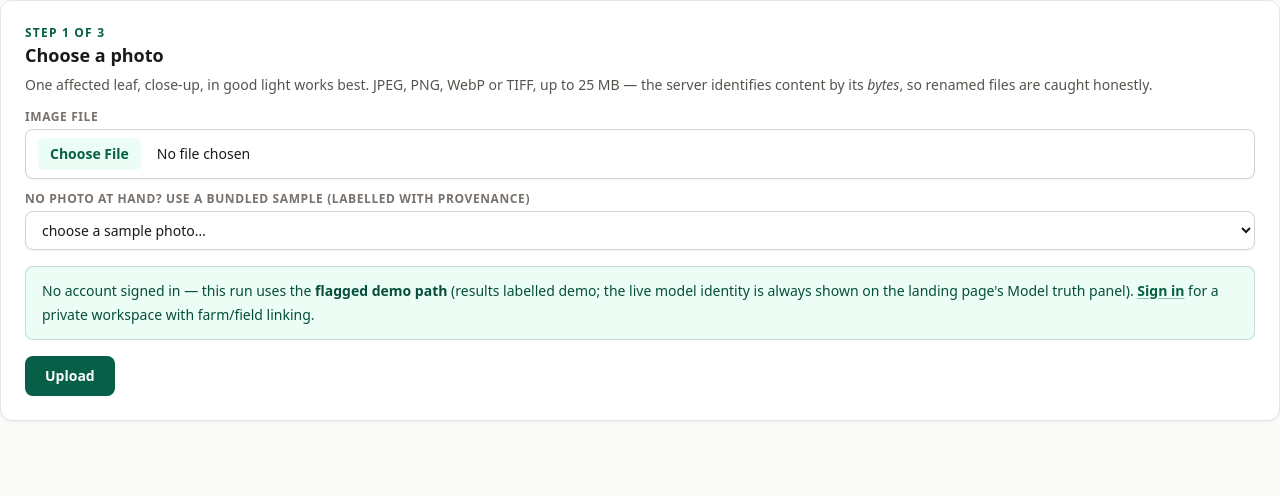
Test: AnalyzeWizard bundled samples › reports a failed sample fetch honestly and offers the manual path
Select "Potato — Late blight (in-domain photo)" in the dropdown with test id "sample-select" at (640, 230), box [25,211,1255,250]
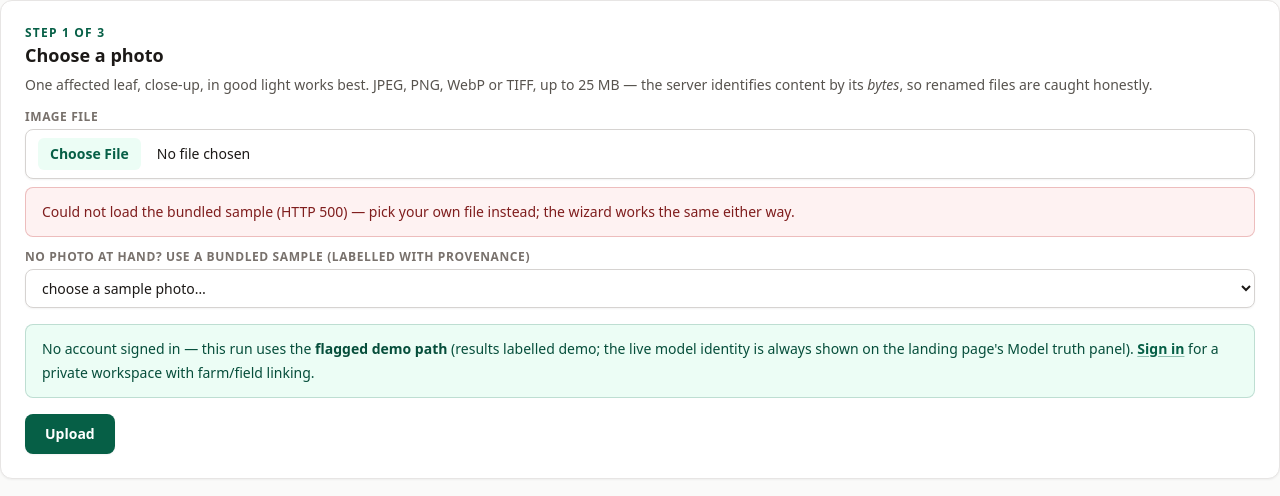
Check: the text "pick your own file instead" is shown, box [42,202,795,221]
